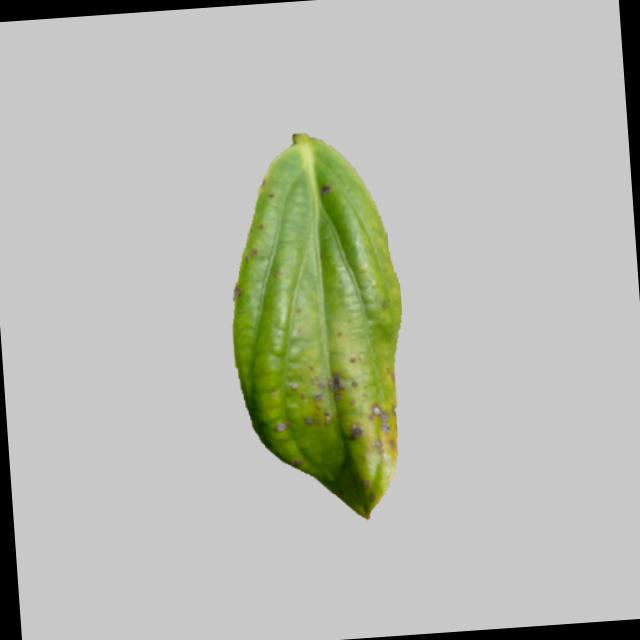yellow-mottle-virus: (210, 125, 428, 528)
